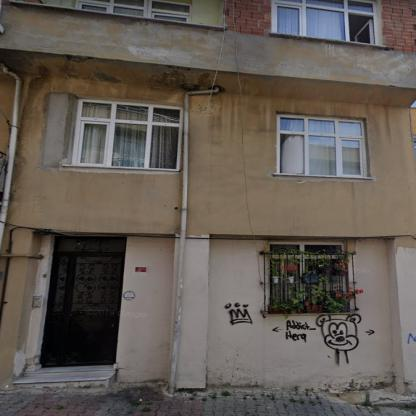door: (43, 253, 124, 364)
window: (74, 100, 182, 169), (279, 115, 365, 176), (274, 0, 373, 44), (78, 0, 190, 22), (56, 237, 124, 252)
